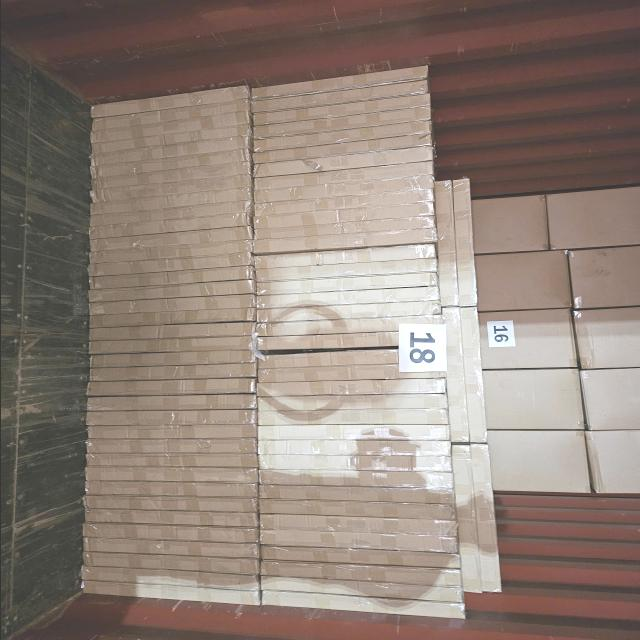Carton: (251, 158, 437, 249), (257, 512, 458, 570), (256, 350, 455, 394), (488, 429, 591, 494), (482, 368, 583, 428), (480, 313, 578, 372), (547, 187, 640, 248), (472, 252, 568, 310), (77, 570, 259, 600), (82, 438, 260, 465), (86, 232, 250, 260), (569, 246, 640, 307), (85, 343, 258, 368), (472, 196, 548, 252), (573, 308, 640, 368), (86, 298, 252, 322), (580, 367, 640, 430), (585, 429, 640, 496), (498, 535, 638, 561), (82, 411, 252, 432), (78, 496, 260, 515), (79, 507, 257, 526), (78, 540, 258, 558), (78, 556, 258, 574), (78, 528, 256, 546), (85, 284, 252, 302), (82, 397, 254, 414), (84, 364, 254, 381), (80, 482, 260, 498), (86, 257, 255, 274), (81, 468, 260, 484), (83, 378, 253, 394), (85, 338, 253, 354), (85, 272, 252, 288), (86, 326, 256, 340)
